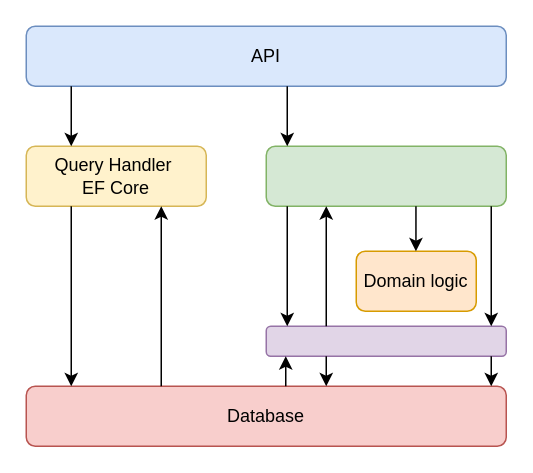
The diagram is 533 pixels wide and 473 high, and some of its shapes have lost their labels. The shapes that lost their labels are listed below. From the top down, each one's centre as x and y in pixels, then its label:
At (385,175): "Command Handler DDD + EF Core".
At (385,340): "Repositories".
